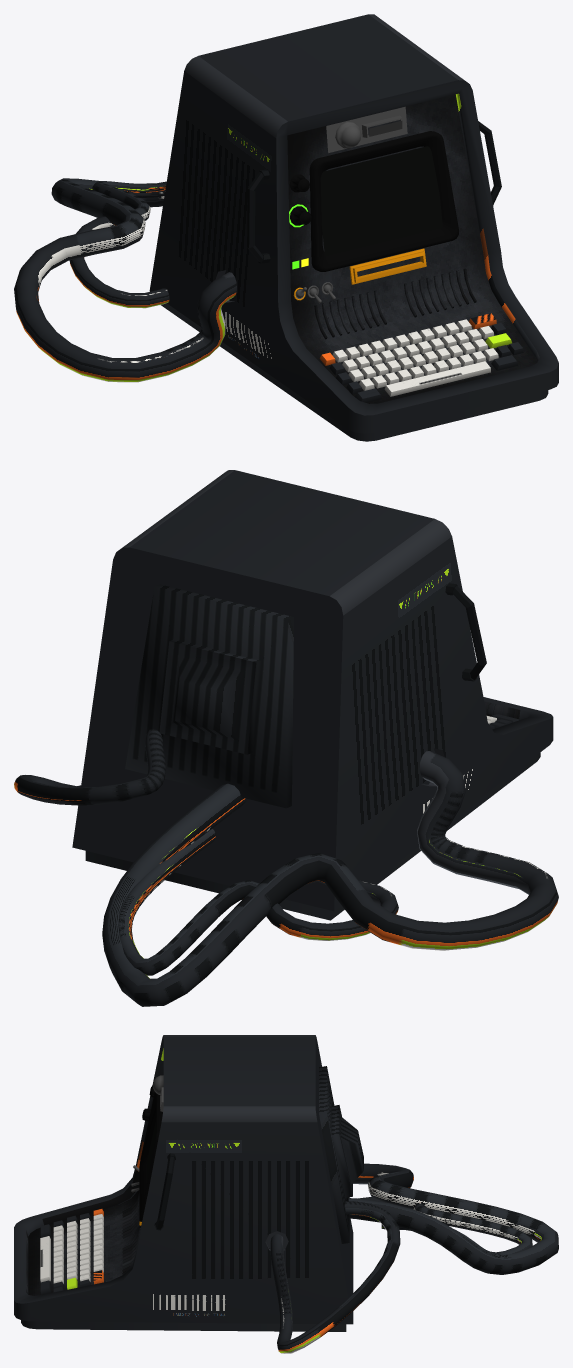
Rendered from trv01.glb.
3 views of the same model, one above another, from view 1: azimuth 30°, elevation 25°; view 2: azimuth 150°, elevation 25°; view 3: azimuth 270°, elevation 25° (orthographic). The views are drawn at different scales.
Visible parts, largest first — view 1: backplate, front-plate, CORD2, Screen, keyboard, Circle.011, Circle.015; view 2: backplate, CORD2; view 3: backplate, CORD2, front-plate, keyboard, Circle.011.
Boxes of the visible parts, box(x1,y1,x2,y2) form: backplate: box(149, 14, 558, 441); front-plate: box(287, 94, 537, 403); CORD2: box(14, 178, 236, 382); Screen: box(320, 146, 442, 256); keyboard: box(319, 313, 523, 402); Circle.011: box(289, 131, 458, 271); Circle.015: box(293, 106, 426, 303); backplate: box(72, 470, 553, 920); CORD2: box(14, 729, 558, 1006); backplate: box(14, 1035, 363, 1331); CORD2: box(270, 1163, 558, 1353); front-plate: box(28, 1190, 140, 1295); keyboard: box(40, 1209, 103, 1294); Circle.011: box(139, 1085, 162, 1221).
Size of the model in its own units: 0.8309 by 0.4647 by 1.05.
Materials: 9 (2 with a texture image).
